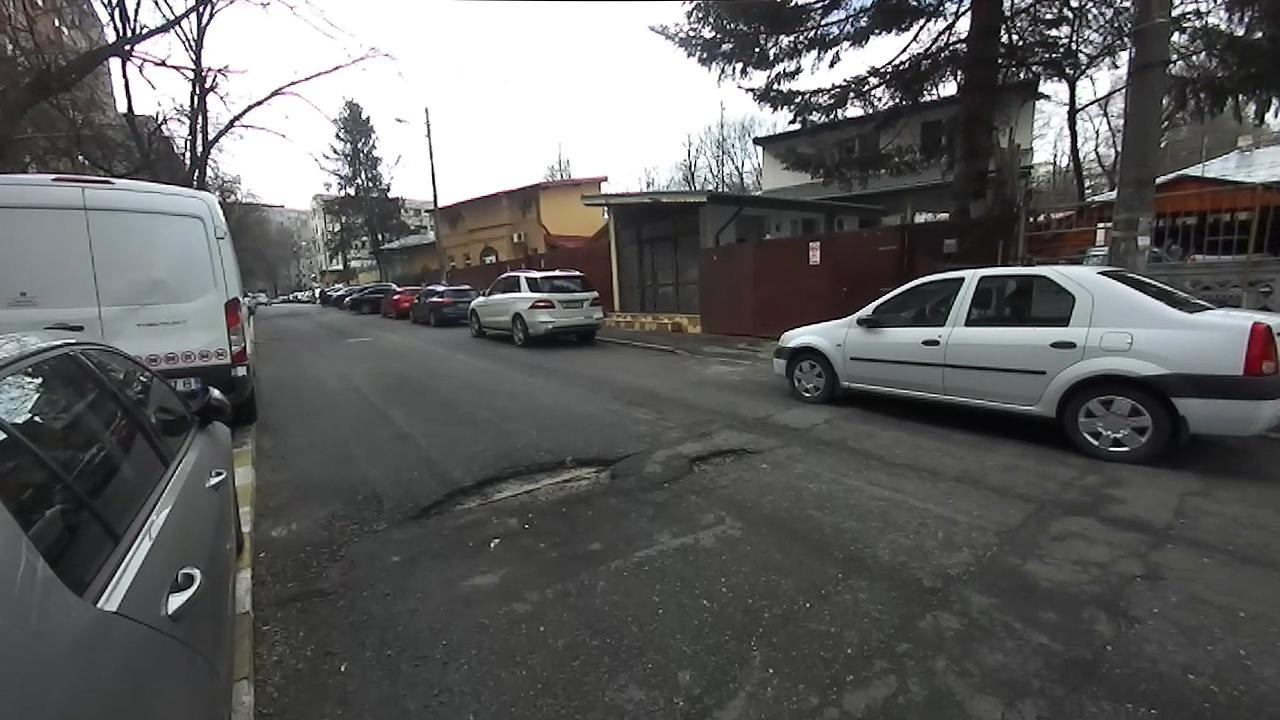pothole: (392, 447, 641, 533), (655, 444, 764, 488)
